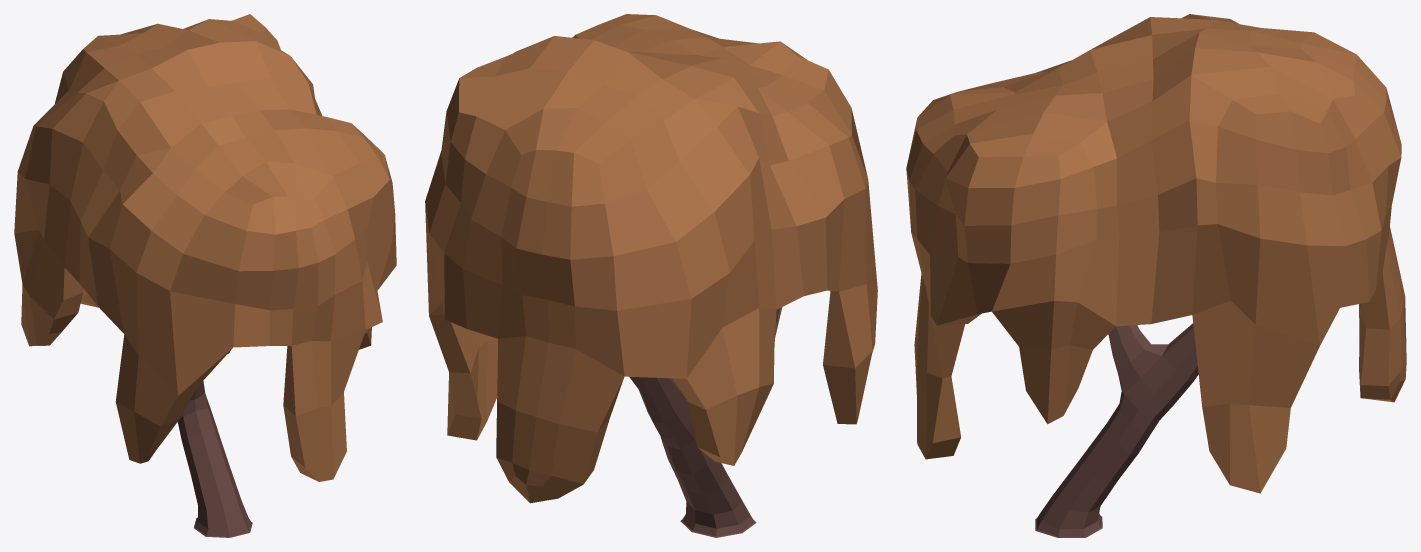
The model's file is Willow_Autumn_4.gltf.
3 views of the same model, side by side, from view 1: azimuth 30°, elevation 25°; view 2: azimuth 150°, elevation 25°; view 3: azimuth 270°, elevation 25° (orthographic). The views are drawn at different scales.
Visible parts, largest first — view 1: Willow_Autumn_4; view 2: Willow_Autumn_4; view 3: Willow_Autumn_4.
Boxes of the visible parts, <box> form: Willow_Autumn_4: <box>14,14,396,537</box>; Willow_Autumn_4: <box>425,14,877,537</box>; Willow_Autumn_4: <box>906,14,1406,537</box>.
Size of the model in its own units: 2.19 by 3.39 by 3.04.
